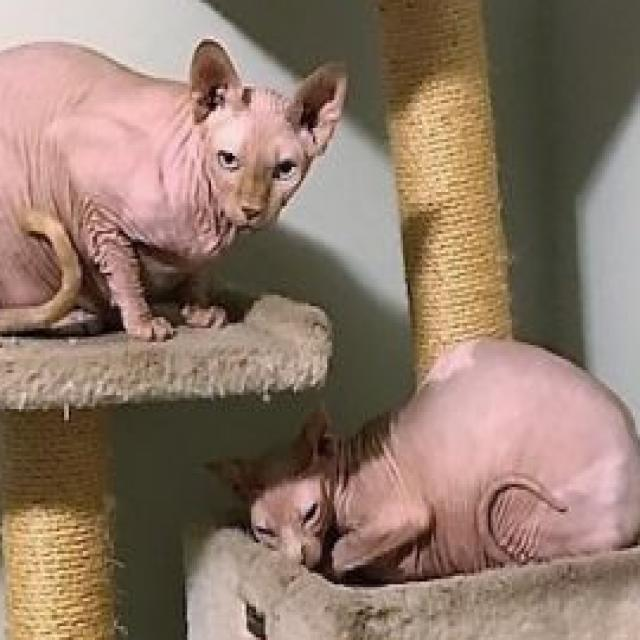Sphynx: (0, 31, 351, 342), (199, 334, 640, 581)
